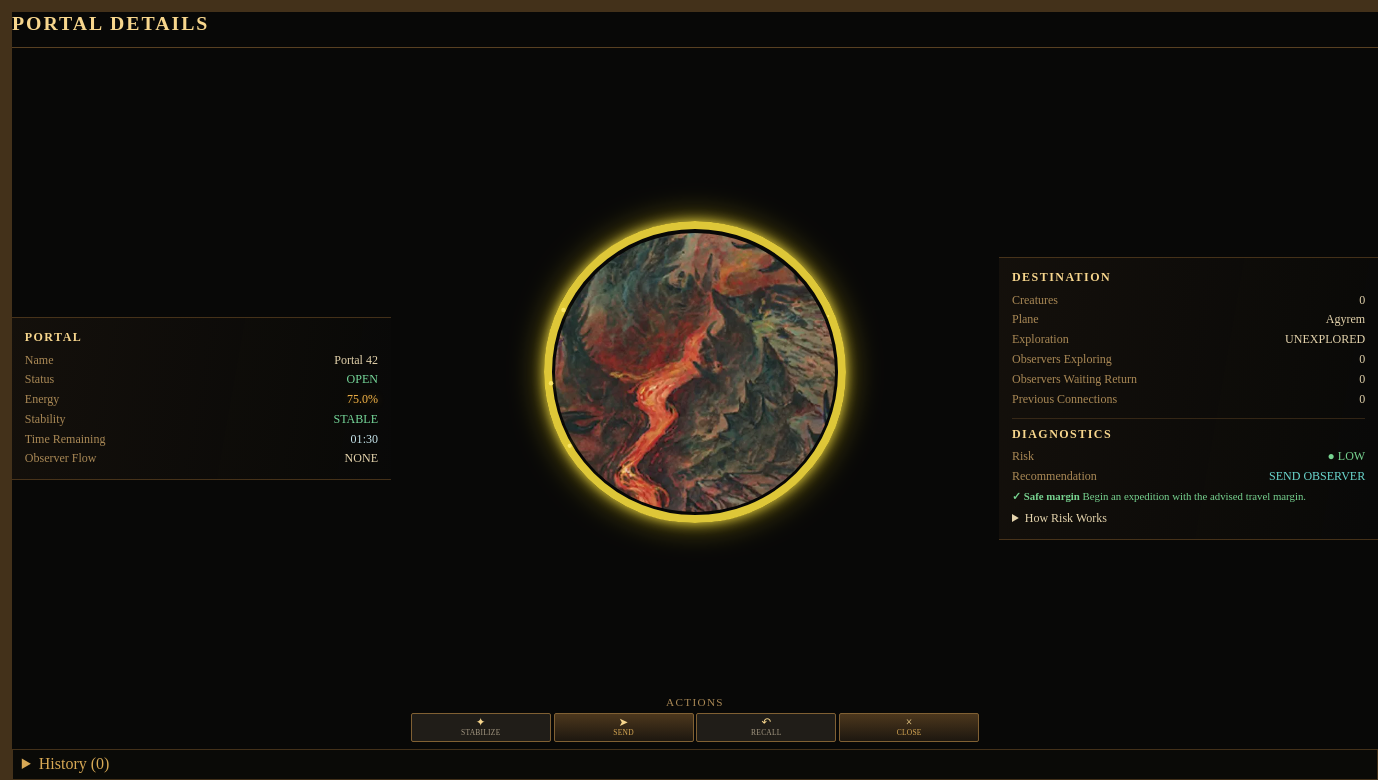
Scenario: PortalDetailsPage › explains risk bands without leaking calculations
This screenshot has width=1378, height=780.
Step 1. Click the heading "How Risk Works" → x=1066, y=518, box [1025,511,1107,525]
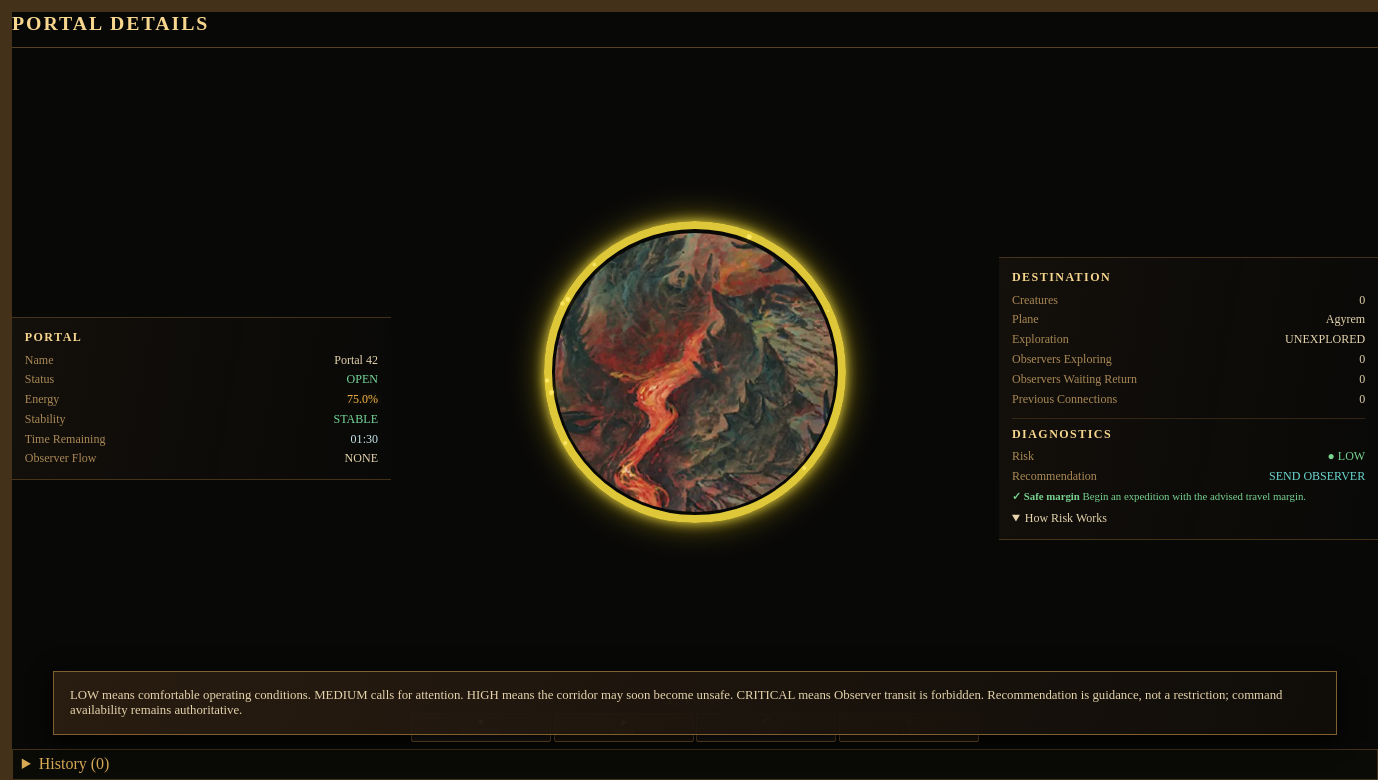
Expected: the text with test id "risk-explanation" shows "guidance, not a restriction", [70,688,1282,717]
